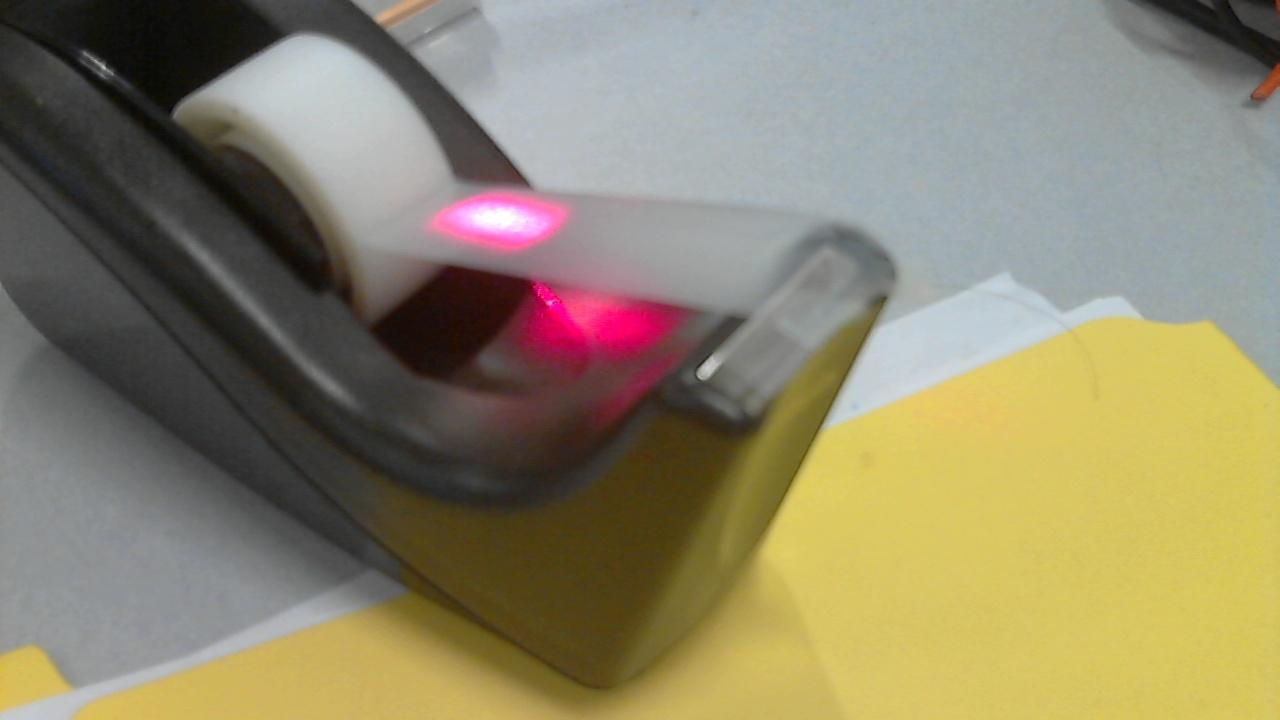Object desktop tape dispenser - Material plastic - Pdfname 8pMd29OsIRjD: (488, 269, 721, 355)
Object desktop tape dispenser - Material plastic tape - Pdfname 8pMd29OsIRjD: (429, 182, 573, 254)
